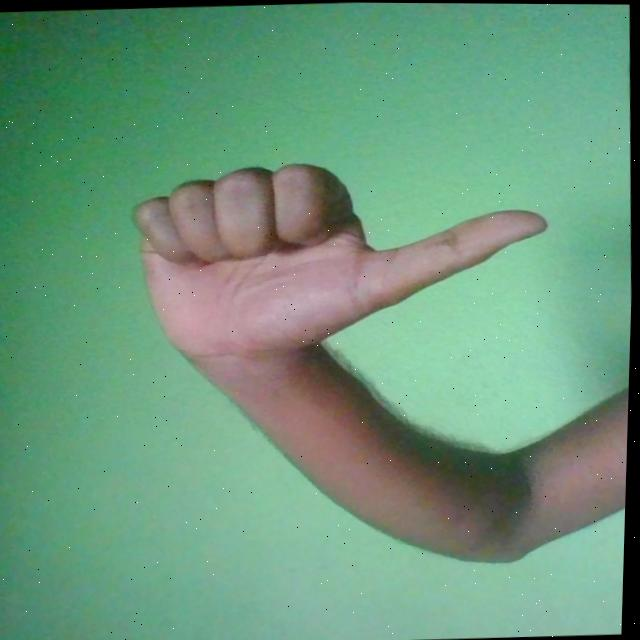Dislike: (125, 155, 557, 365)
